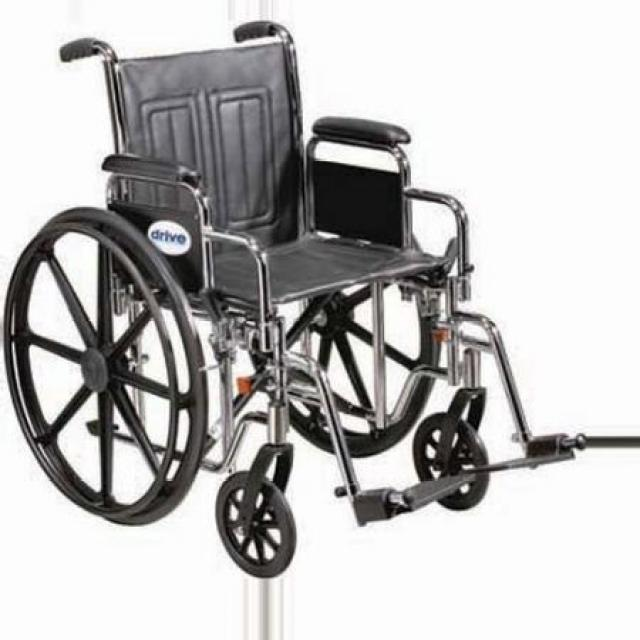wheelchair: (4, 9, 640, 584)
